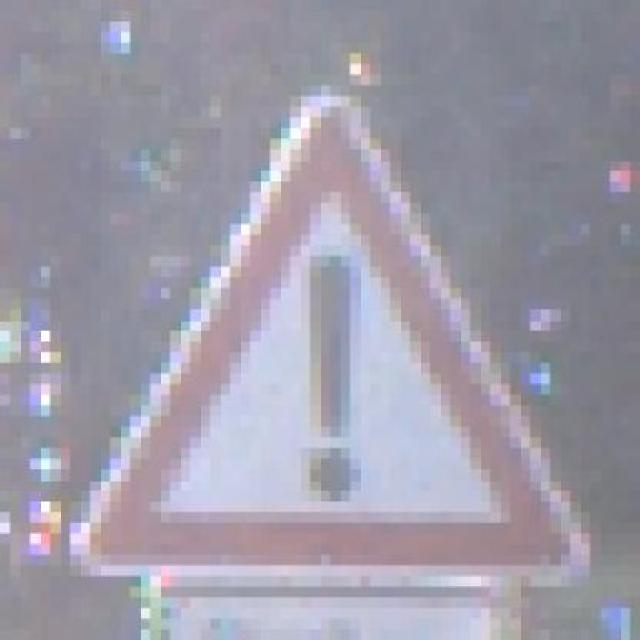Attention Please-: (49, 75, 600, 598)
